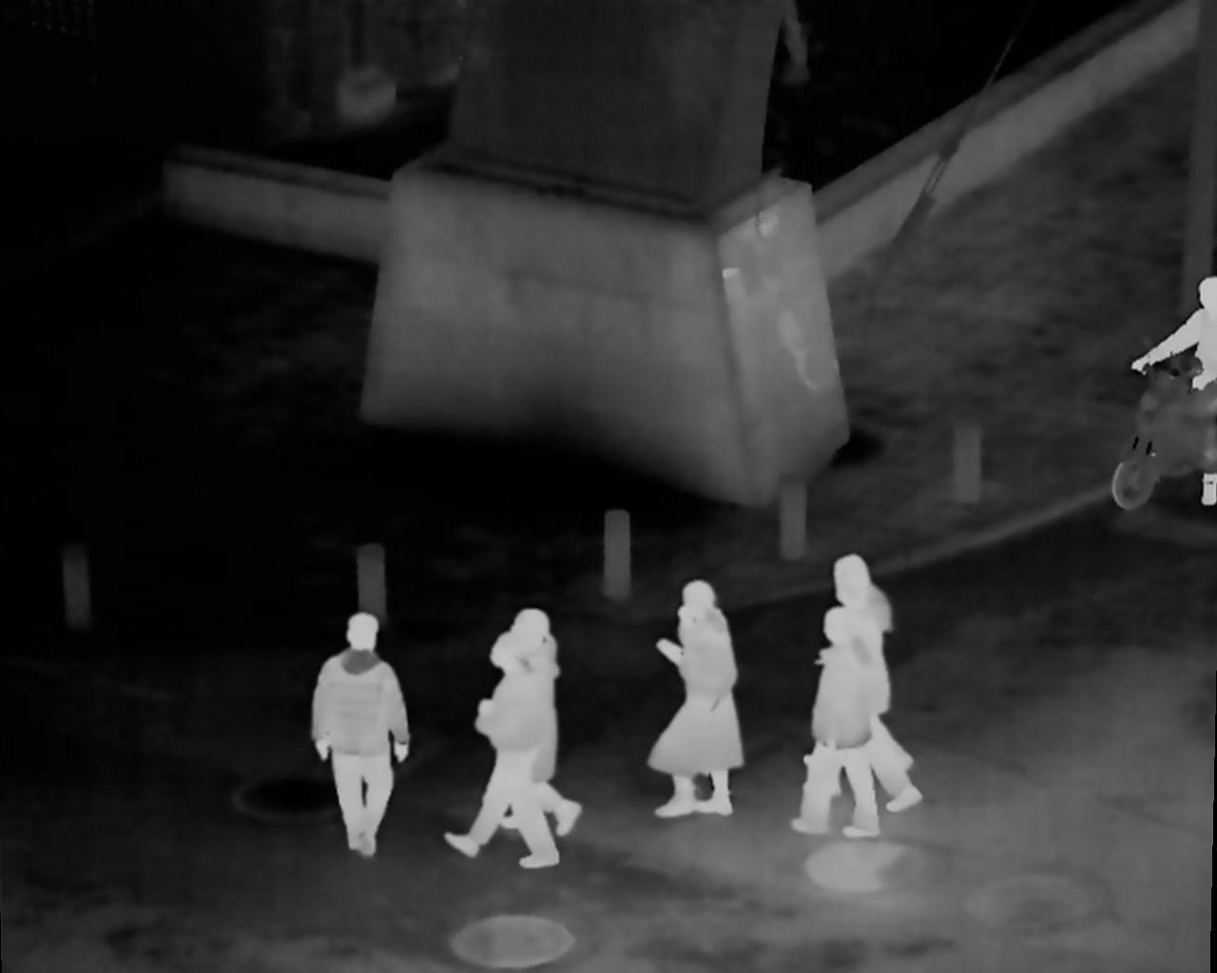person: (802, 564, 914, 836), (448, 635, 554, 873), (313, 610, 414, 859), (646, 583, 742, 827), (492, 604, 580, 840), (1142, 283, 1217, 497)
